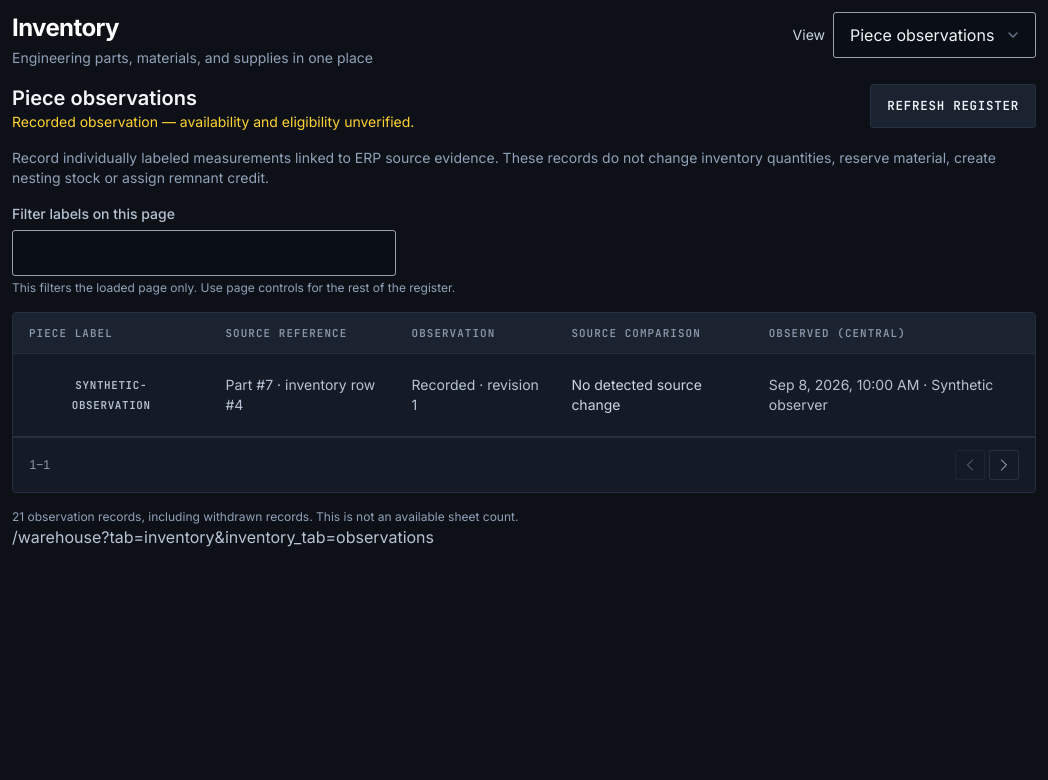
Test: mounts the real server-paged observation register from the warehouse deep link while aggregate loading is pending
Check: the button "SYNTHETIC-OBSERVATION" is shown, box [29, 368, 194, 422]
Check: the dropdown named "Inventory view" shows "Piece observations", box [833, 12, 1036, 58]
What coordinates should you click on to do the following:
click the button named "Next page"
I would click on:
 (1004, 465)
Its box is [989, 450, 1019, 480].
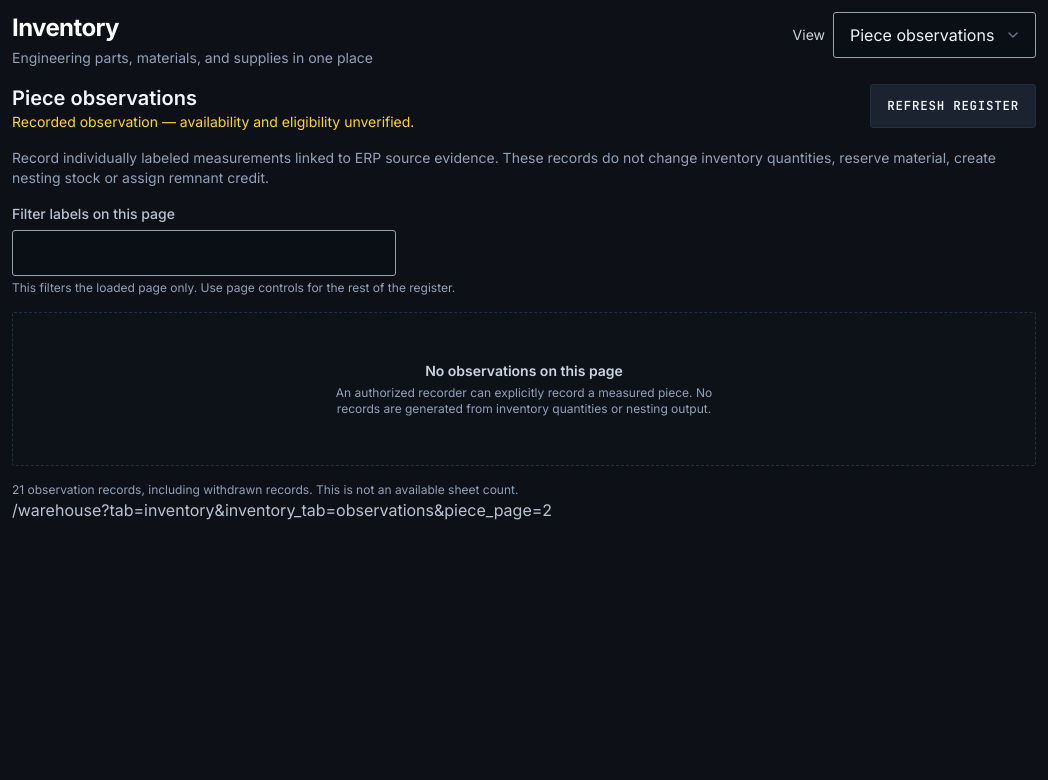
Check: the text named "Current route" shows "tab=inventory", box [101, 500, 552, 520]
Check: the text named "Current route" shows "piece_page=2", box [101, 500, 552, 520]
